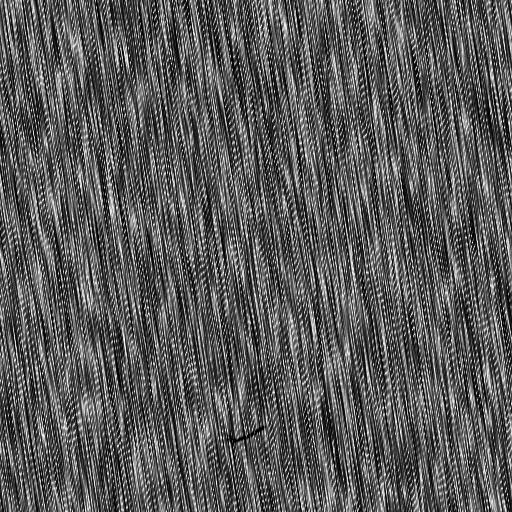DefectTypeC: (232, 424, 265, 445)
